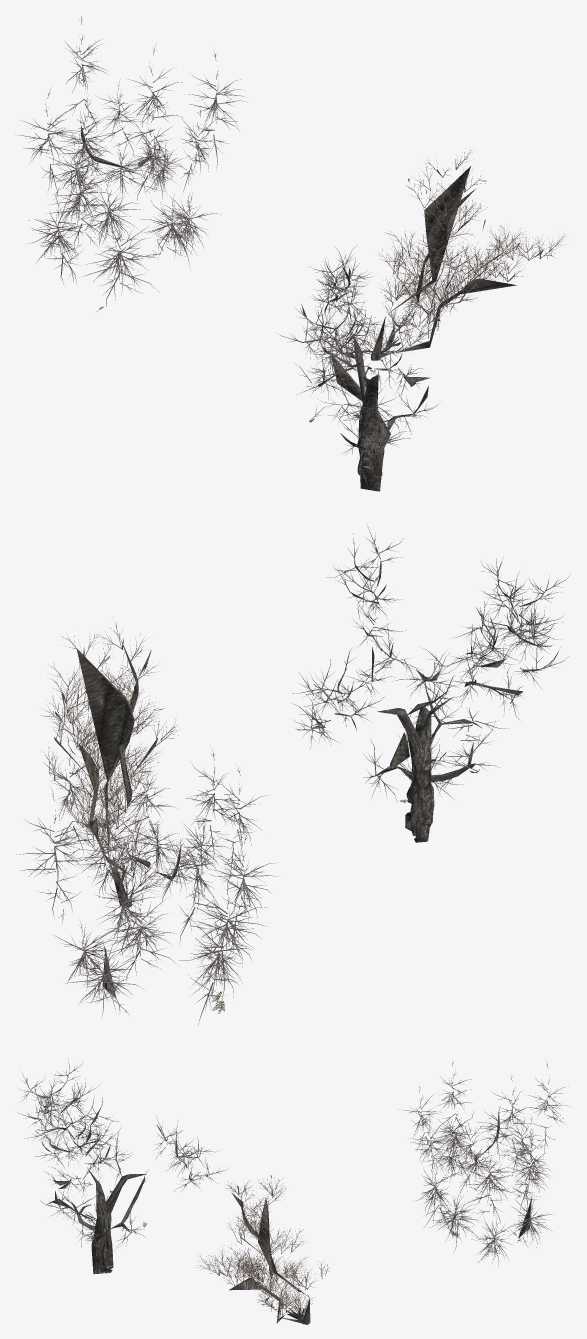
File: tree-forest-pack.glb
3 views of the same model, one above another, from view 1: azimuth 30°, elevation 25°; view 2: azimuth 150°, elevation 25°; view 3: azimuth 270°, elevation 25° (orthographic). The views are drawn at different scales.
Visible parts, largest first — view 1: HCT Tree 02.Shape, HCT Tree 03.Shape, HCT Tree 07.Shape; view 2: HCT Tree 02.Shape, HCT Tree 03.Shape, HCT Tree 07.Shape; view 3: HCT Tree 02.Shape, HCT Tree 03.Shape, HCT Tree 07.Shape.
Boxes of the visible parts, x1,y1,x2,y2 form: HCT Tree 02.Shape: [15, 16, 247, 311]; HCT Tree 03.Shape: [279, 243, 486, 491]; HCT Tree 07.Shape: [356, 148, 565, 360]; HCT Tree 02.Shape: [16, 736, 277, 1025]; HCT Tree 03.Shape: [292, 525, 569, 842]; HCT Tree 07.Shape: [40, 622, 178, 907]; HCT Tree 02.Shape: [399, 1061, 569, 1266]; HCT Tree 03.Shape: [17, 1059, 229, 1274]; HCT Tree 07.Shape: [197, 1175, 329, 1324].
Size of the model in its own units: 14.91 by 10.25 by 24.51.
Materials: 6 (6 with a texture image).
